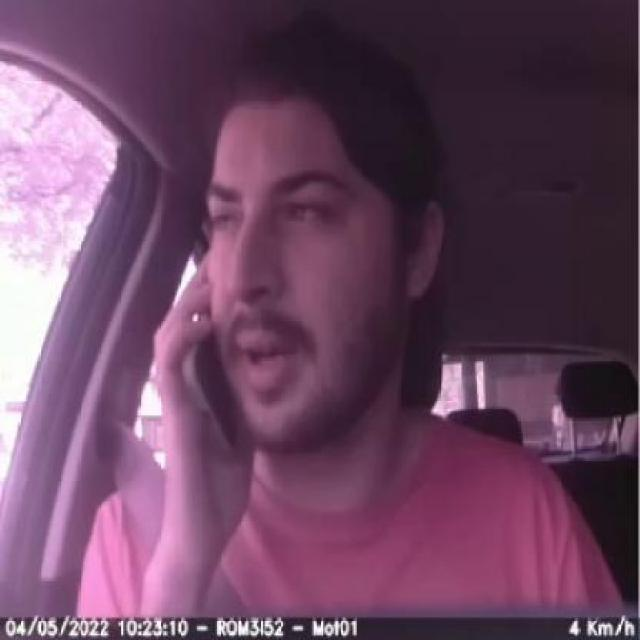using_phone: (139, 199, 267, 510)
